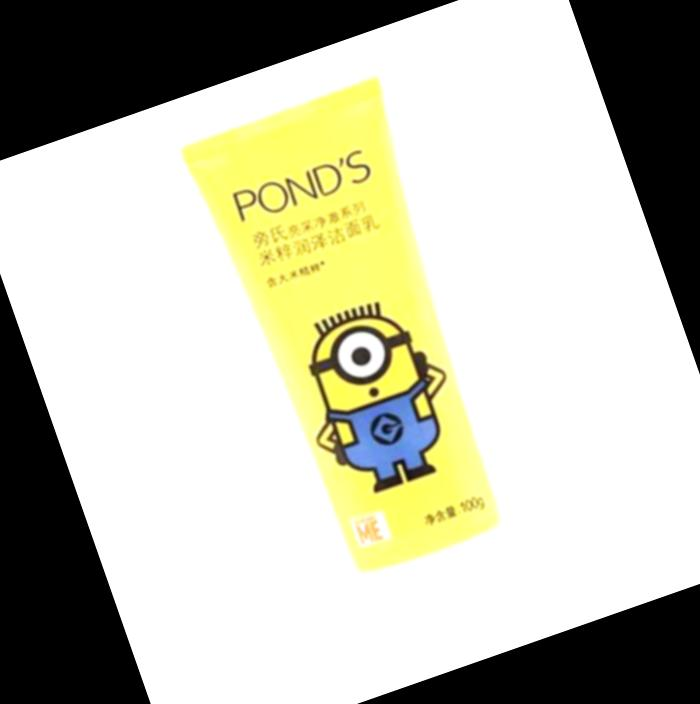cosmetic: (173, 75, 568, 675)
